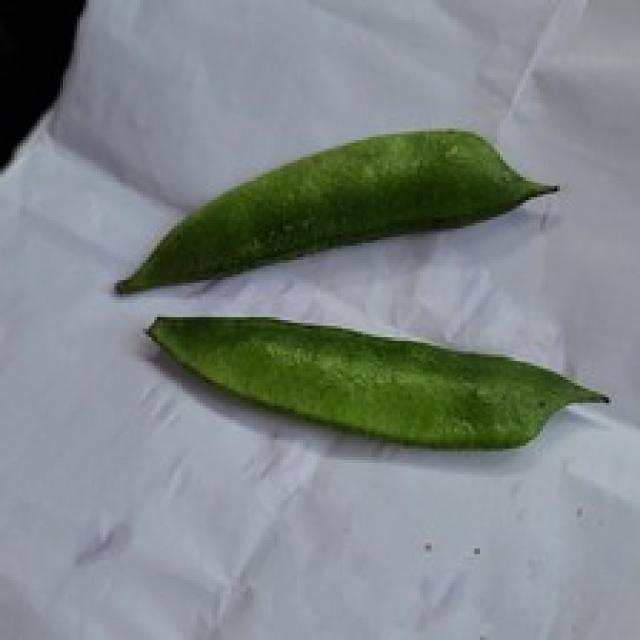Bean: (111, 126, 560, 294), (143, 312, 608, 452)
